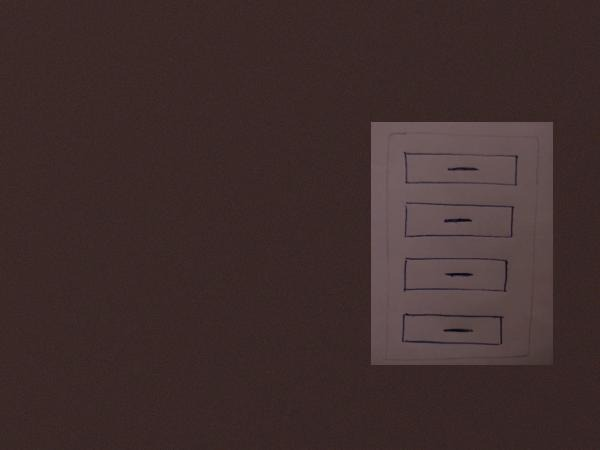button: (401, 148, 522, 192), (401, 253, 511, 298), (402, 200, 517, 242), (399, 310, 506, 351)
